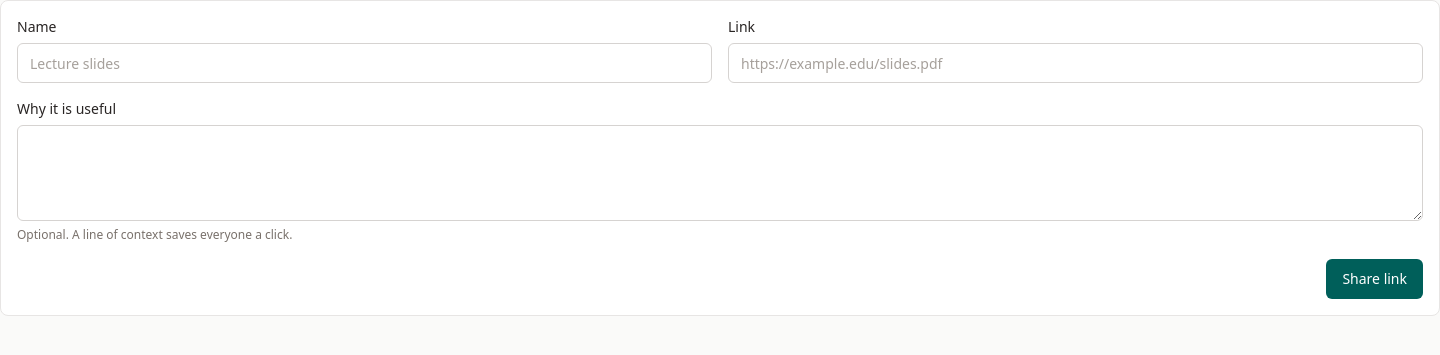
Test: ResourceForm › refuses a javascript: link
The image size is (1440, 355).
Type "Totally safe" into the field labelled "Name" at {"x": 364, "y": 63}, box [17,43,712,83]
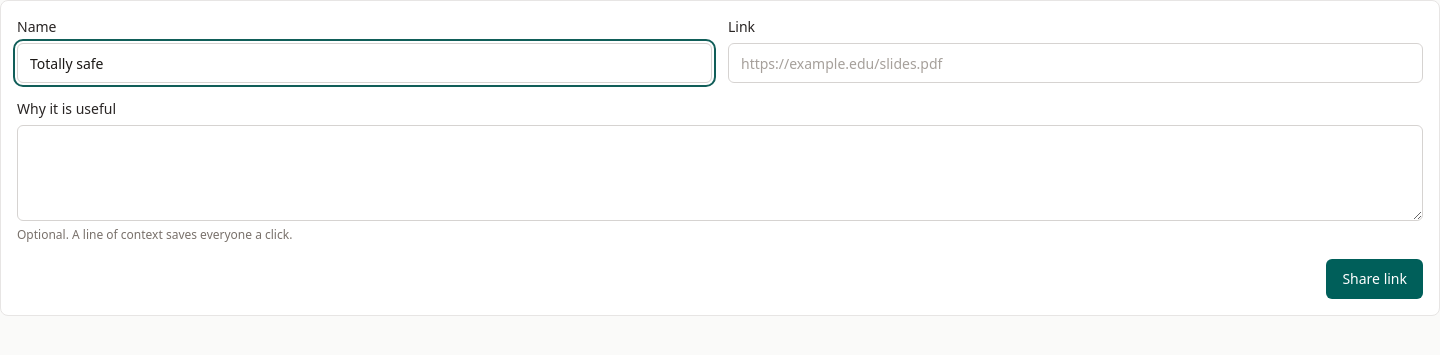
Type "javascript:alert(1)" into the field labelled "Link" at {"x": 1076, "y": 63}, box [728,43,1423,83]
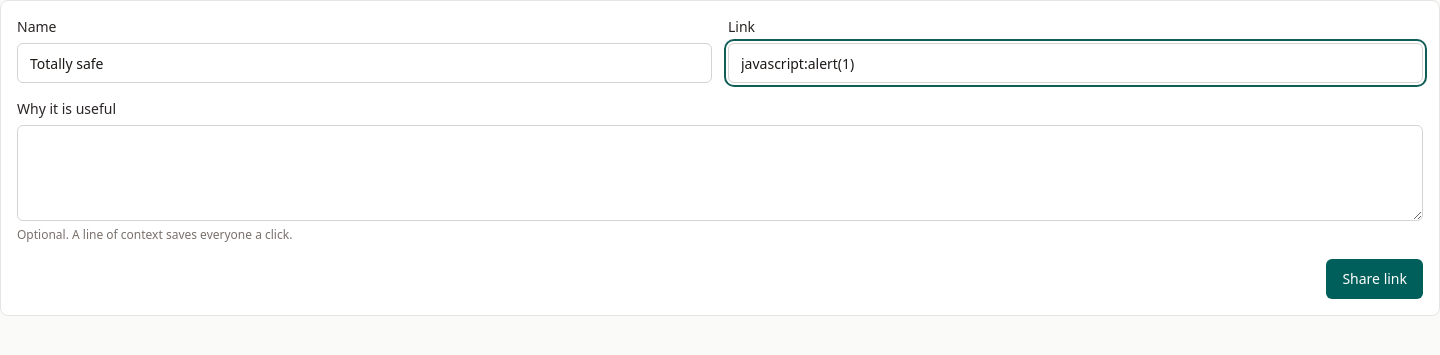
Click the button "Share link" at {"x": 1375, "y": 279}, box [1326,259,1423,299]
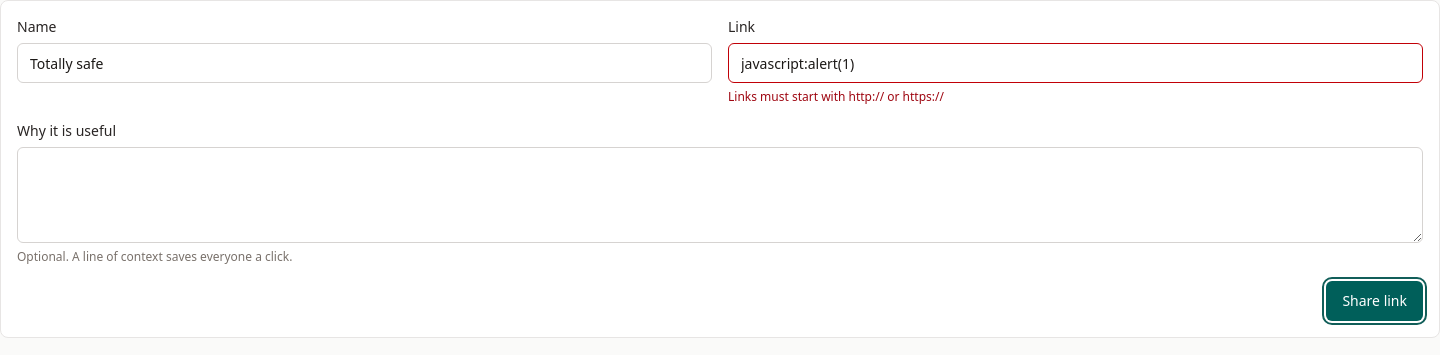
Now the text "Links must start with http:// or https://" is shown, box [728,88,944,105]
